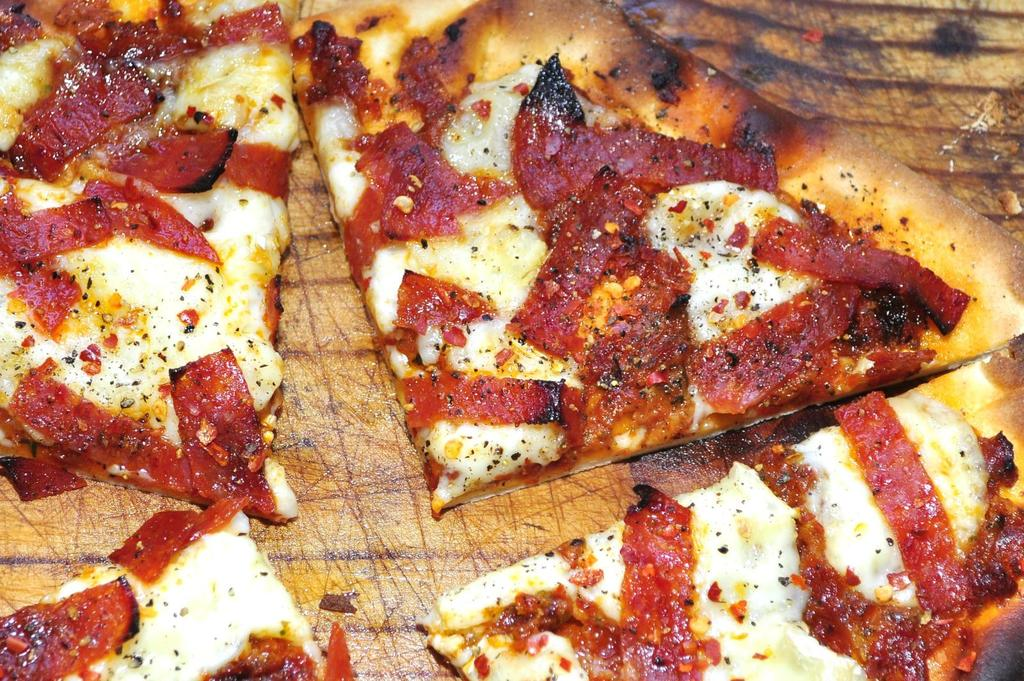Pizza: (419, 318, 1023, 673), (600, 24, 1016, 452), (0, 36, 305, 516), (286, 53, 570, 508), (11, 494, 341, 680), (6, 0, 301, 115)
